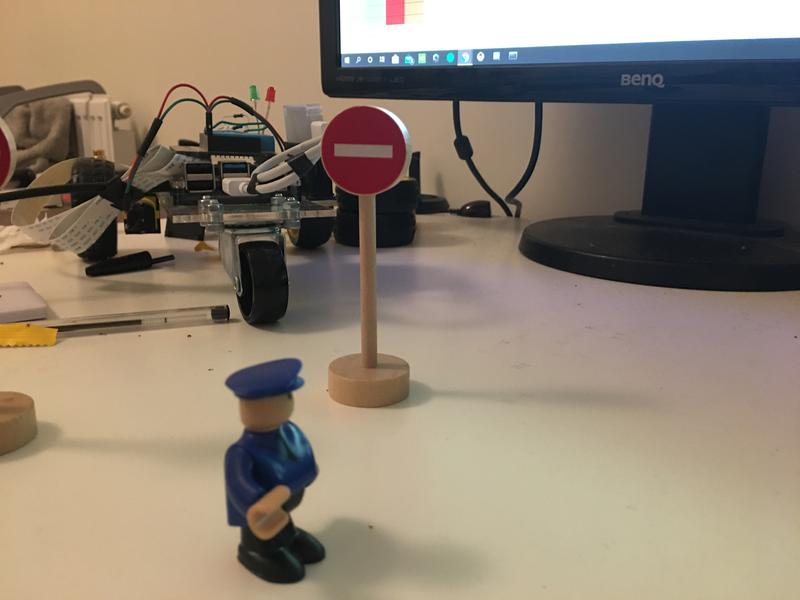Traffic_Sign_No_Entry: (321, 107, 407, 195)
person: (219, 357, 335, 582)
